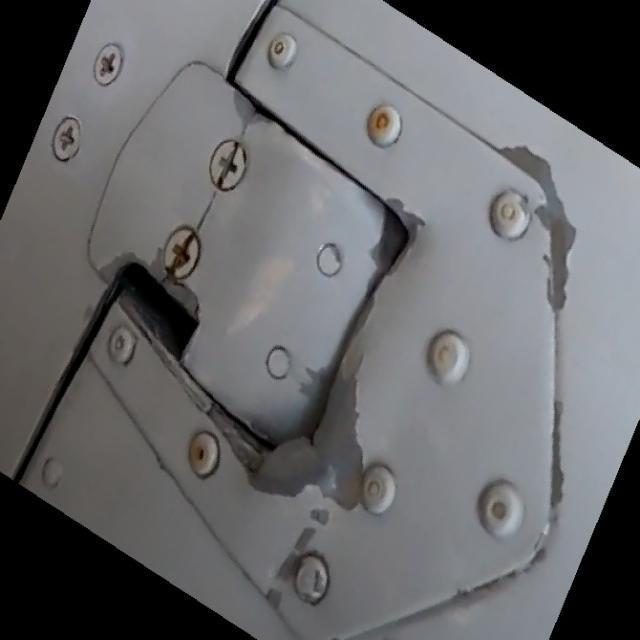crack: (232, 84, 409, 273), (249, 331, 391, 511), (502, 147, 575, 313), (123, 264, 199, 353), (179, 187, 226, 235), (225, 411, 277, 450)
